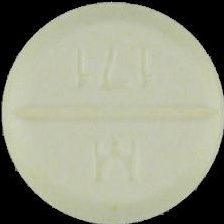54868-3257: (0, 0, 224, 224)
